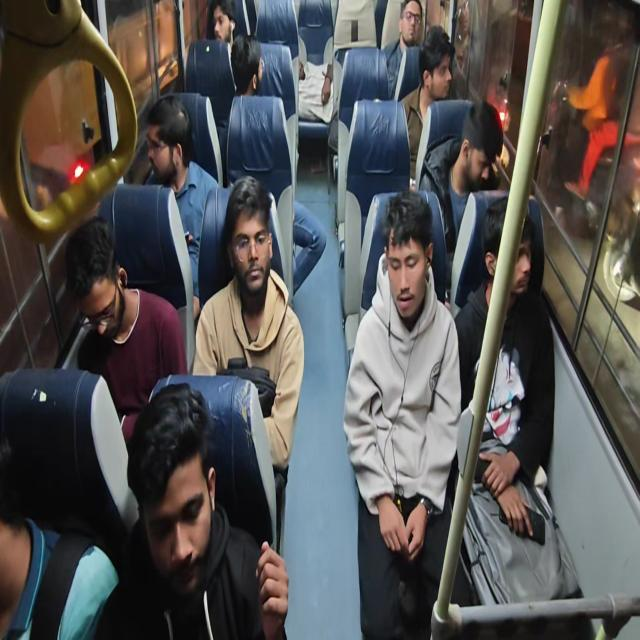person: (450, 196, 593, 636), (343, 190, 462, 638), (93, 381, 289, 639), (192, 175, 304, 485), (64, 214, 188, 446), (229, 33, 327, 295), (0, 438, 120, 639), (143, 94, 220, 318), (418, 99, 504, 252), (399, 25, 455, 188), (381, 0, 423, 99), (296, 35, 334, 123), (230, 33, 264, 96), (206, 0, 236, 45)
